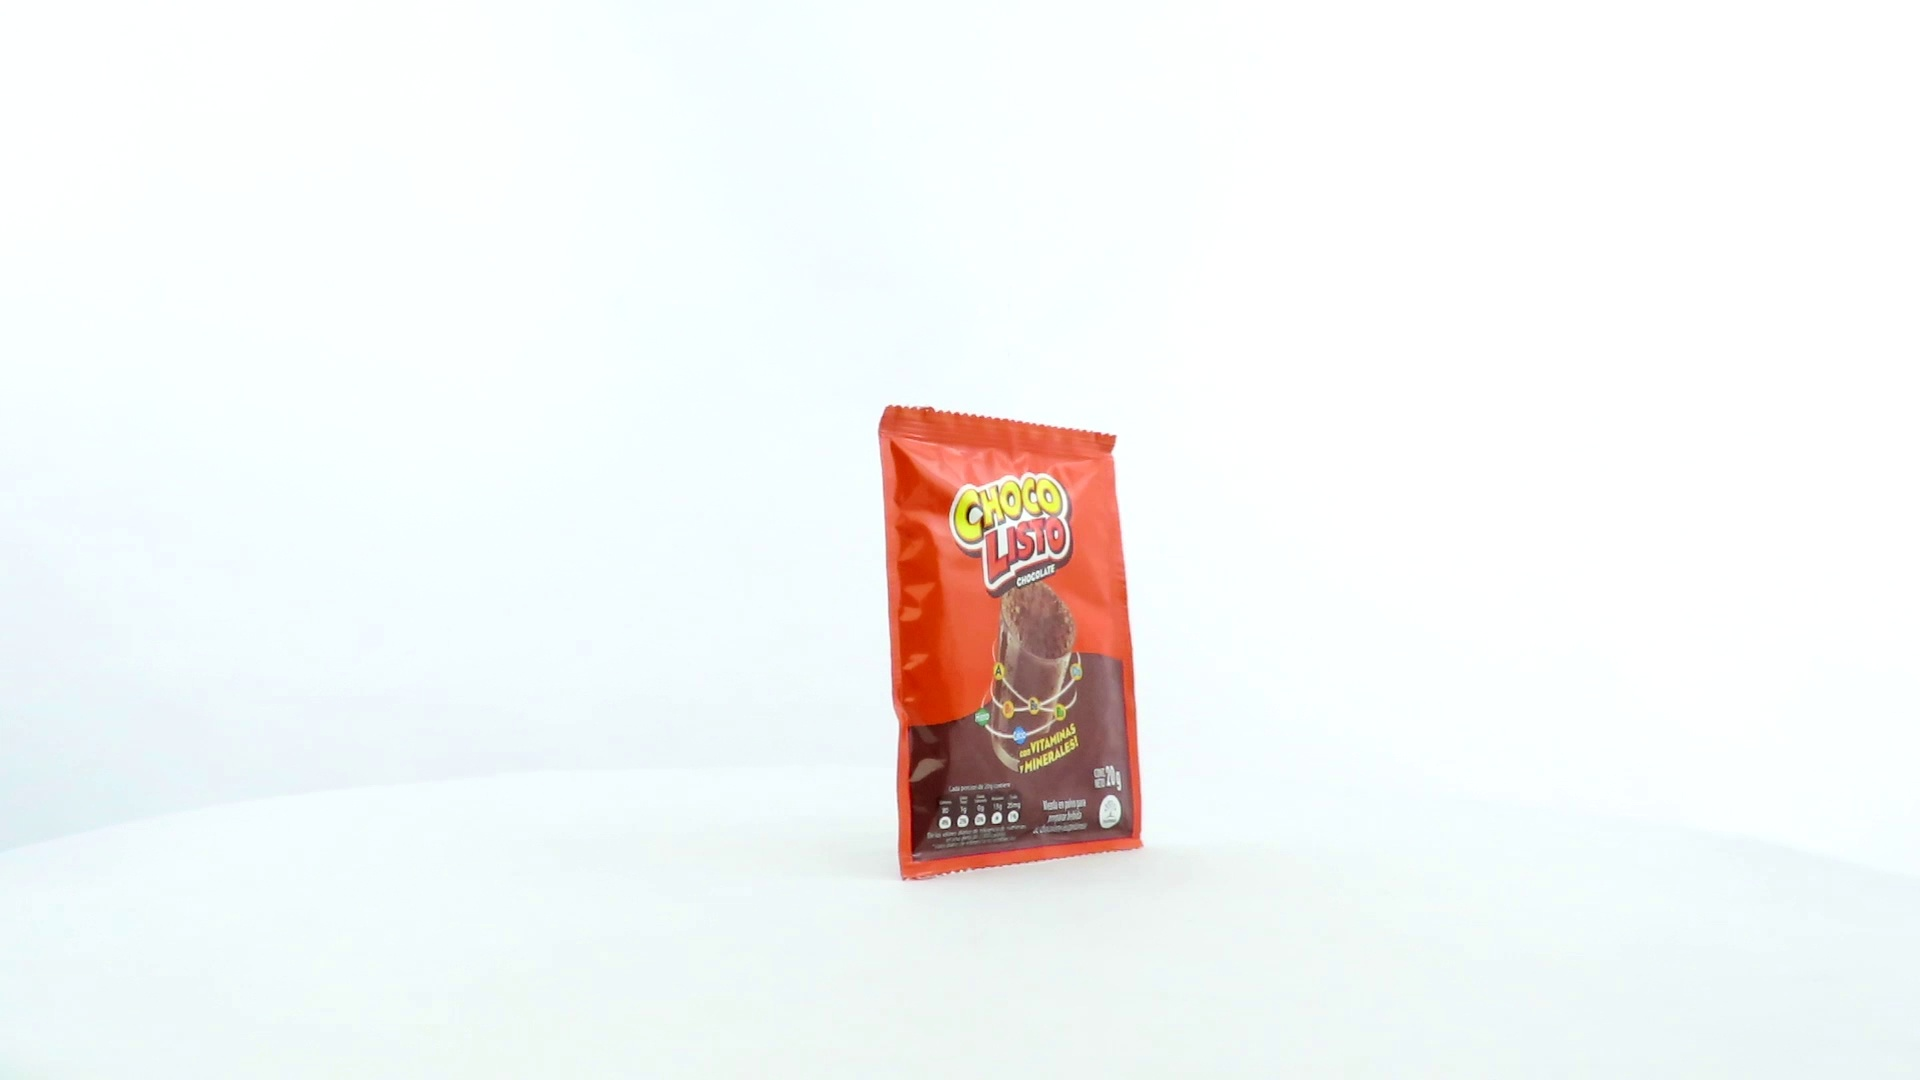COL0170103SOB02000: (873, 400, 1150, 887)
